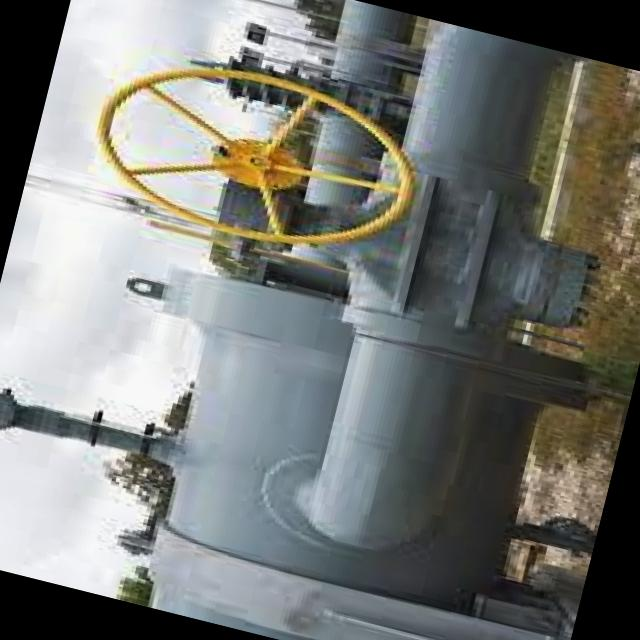gas: (165, 272, 465, 610), (305, 306, 585, 578), (152, 526, 555, 640), (392, 174, 595, 326), (404, 23, 577, 199), (332, 0, 420, 92), (164, 588, 313, 640), (311, 112, 380, 178), (304, 178, 365, 207)
